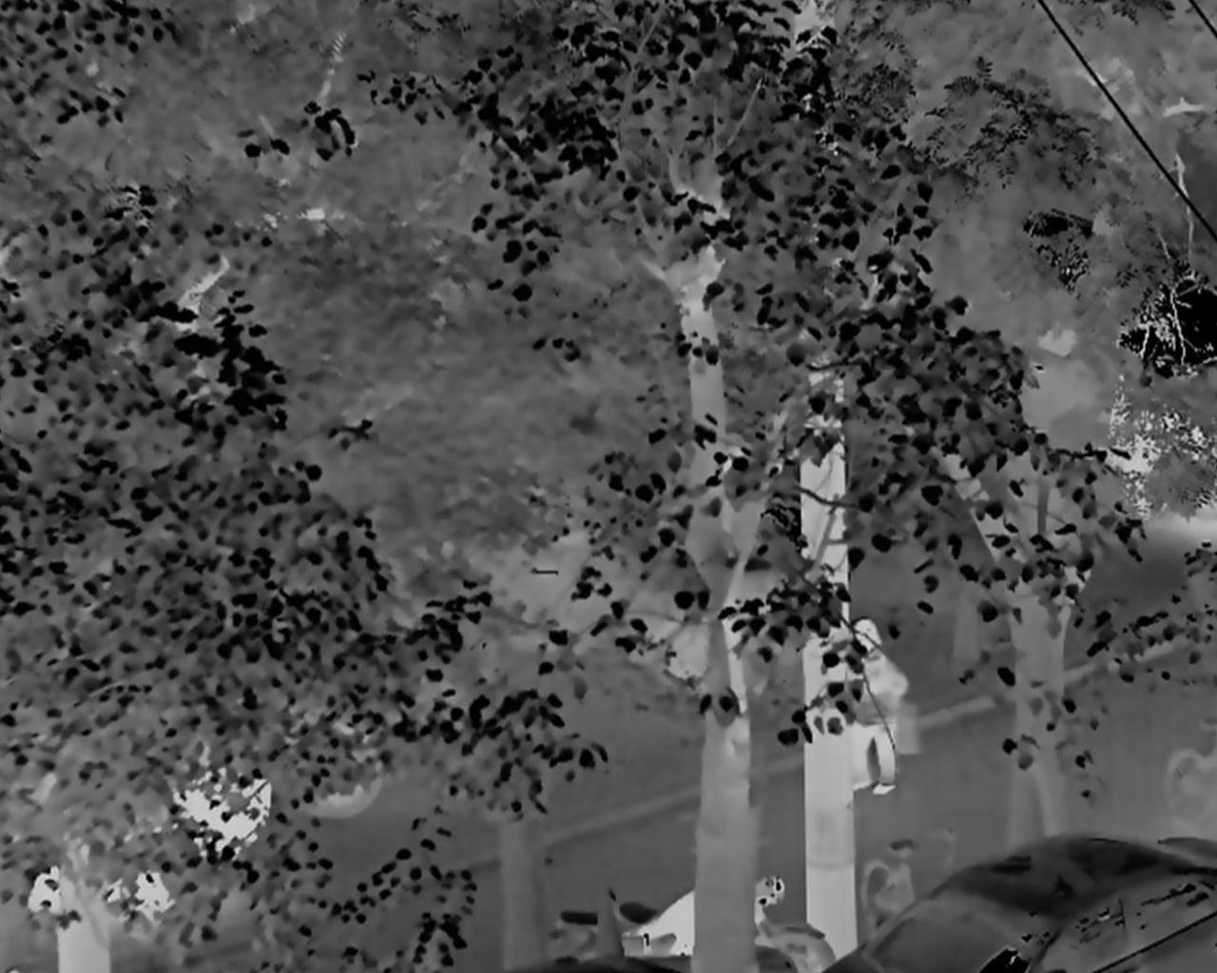person: (848, 615, 910, 794)
